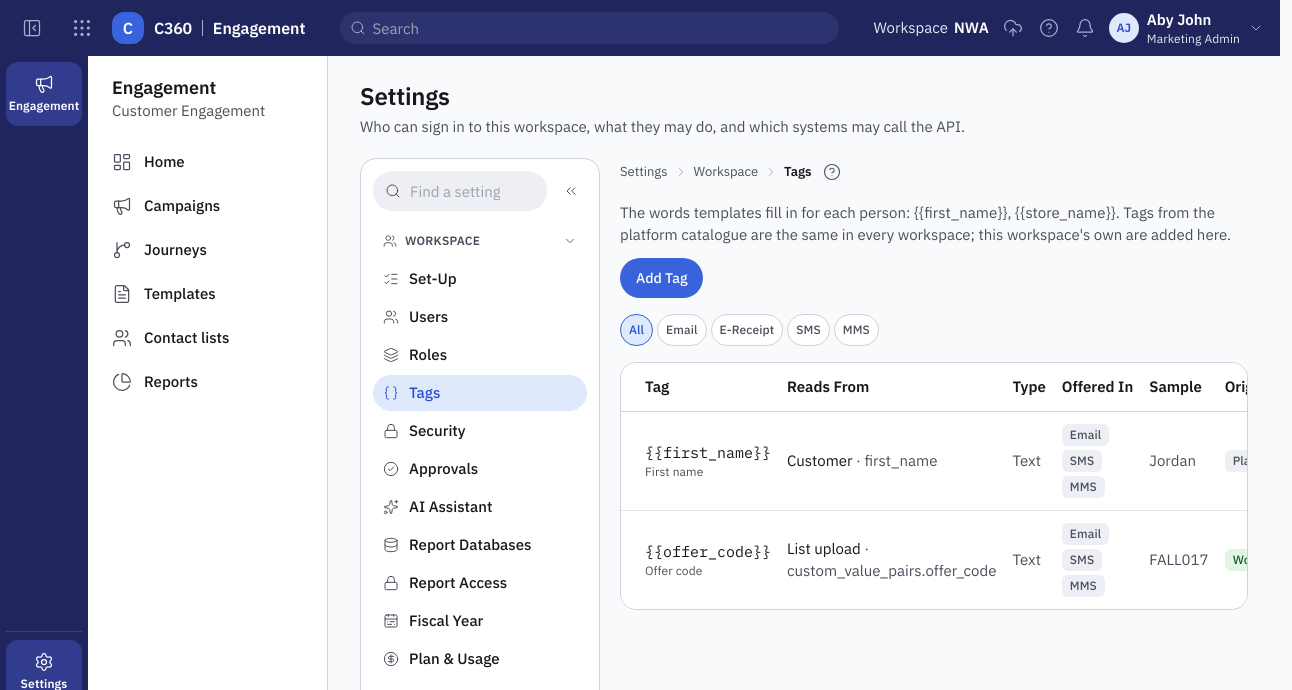
Test case: Tags: every tag with where it reads from and its origin; a platform tag cannot be edited here; the channel filter narrows the list
The width and height of the screenshot is (1292, 690).
Expected: the table named "Personalization tags" is shown, 621,363 -> 1248,608
Expected: the text "Customer · first_name" is shown, 787,450 -> 937,470
Click the radio button labelled "E-Receipt": {"x": 747, "y": 330} 710,314 -> 783,346
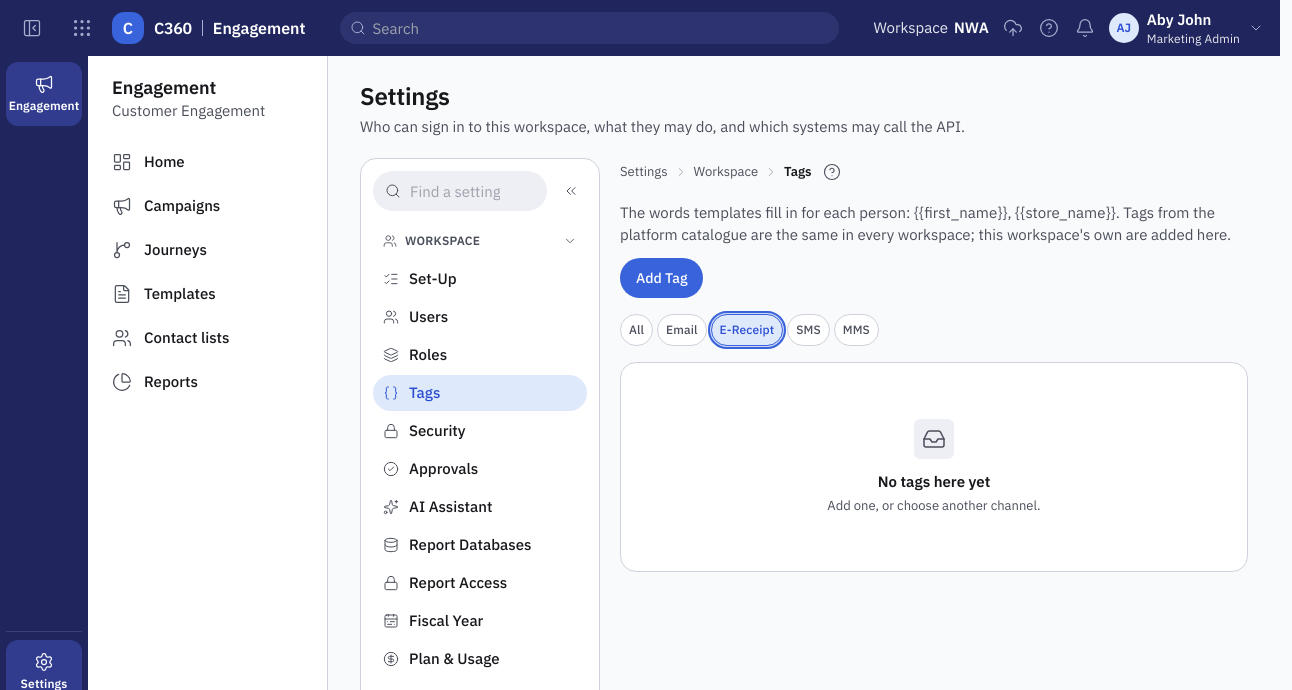
Expected: the table "Personalization tags" is not shown
Result: the text "No tags here yet" is shown at 878,472 -> 990,491
